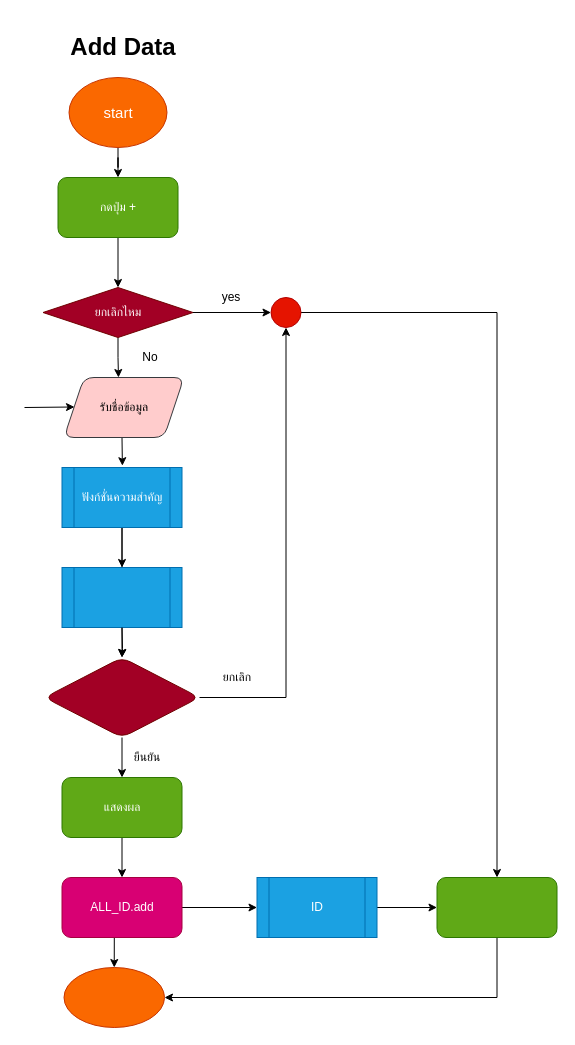
Image size: 575x1045. Some labels were removed from this diagram. The box of each missing label's shape, as (x1, y1, x2, y2) in pixels:
End: (63, 966, 164, 1028)
กลับหน้า Main: (436, 876, 557, 938)
ยืนยันหรือยกเลิก: (44, 656, 200, 738)
เลือกปฏิทิน: (61, 566, 182, 628)
